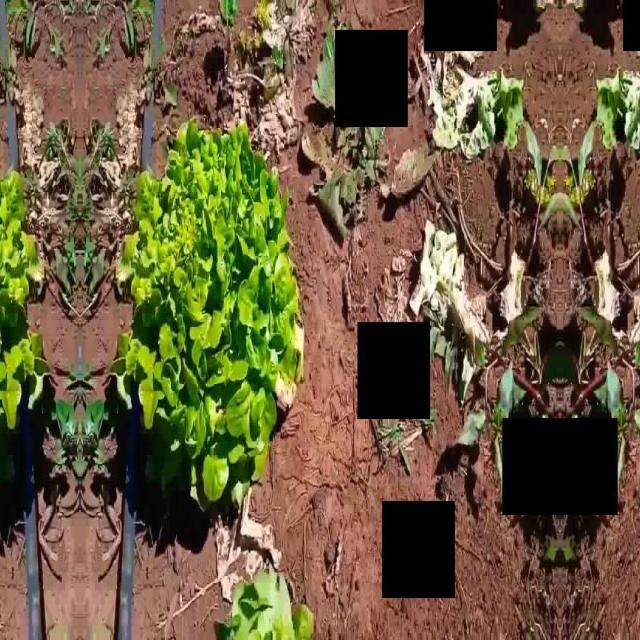healthy: (115, 119, 303, 518), (0, 118, 45, 517)
